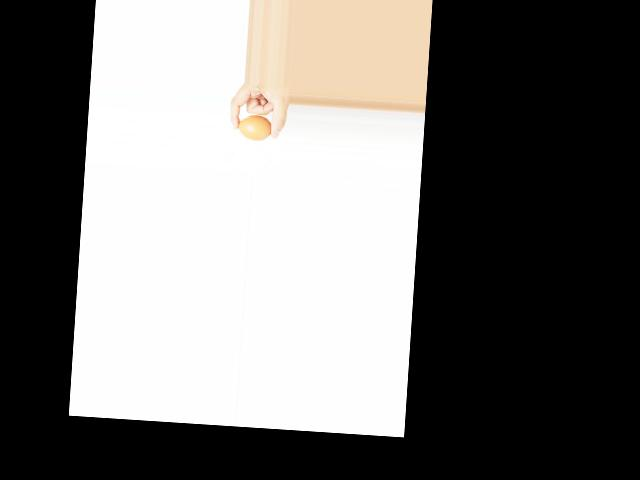egg: (236, 114, 272, 142)
